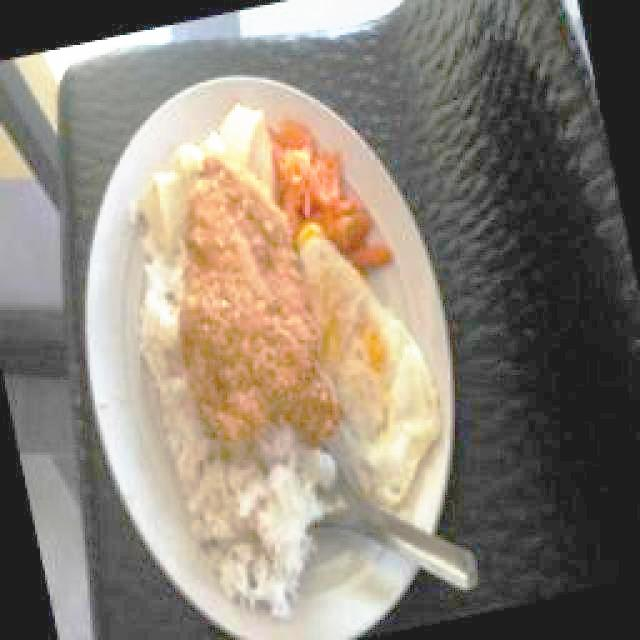fried_chicken: (184, 157, 340, 445)
fried_eggs: (306, 231, 440, 506)
rice: (142, 253, 329, 619)
